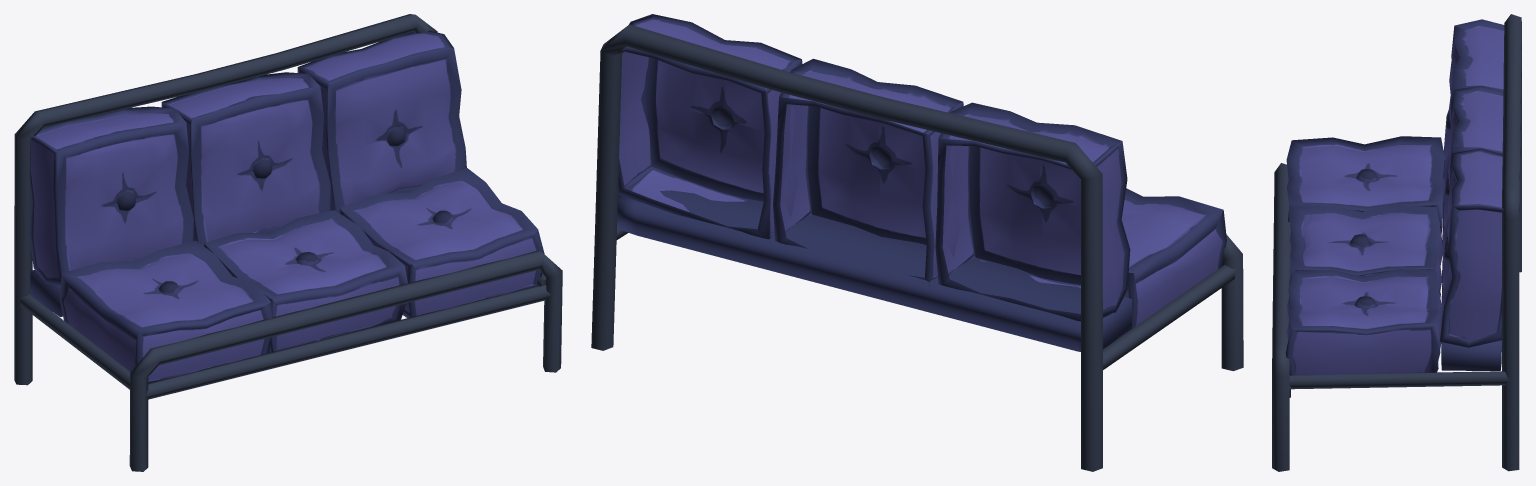
The model's file is TherapyCouch.fbx.
The picture shows the model from 3 angles, left to right: view 1: azimuth 30°, elevation 25°; view 2: azimuth 150°, elevation 25°; view 3: azimuth 270°, elevation 25°; orthographic projection. The views are drawn at different scales.
Visible parts, largest first — view 1: polySurface15; view 2: polySurface15; view 3: polySurface15.
Boxes of the visible parts, x1=… form: polySurface15: x1=14, y1=14, x2=562, y2=471; polySurface15: x1=591, y1=14, x2=1243, y2=471; polySurface15: x1=1272, y1=14, x2=1521, y2=471.
Size of the model in its own units: 555 by 340 by 284.
